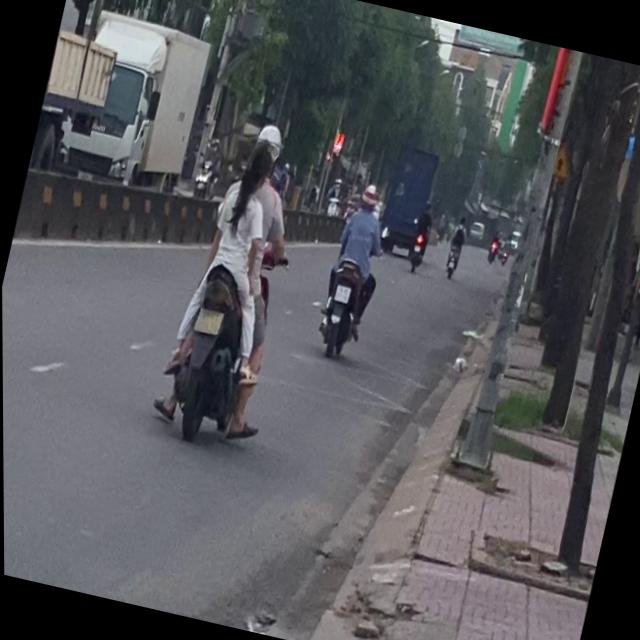helmet: (251, 119, 285, 156)
licenseplate: (145, 109, 319, 454)
motorcyclist: (239, 133, 281, 190)
nohelmet: (193, 306, 221, 333)
